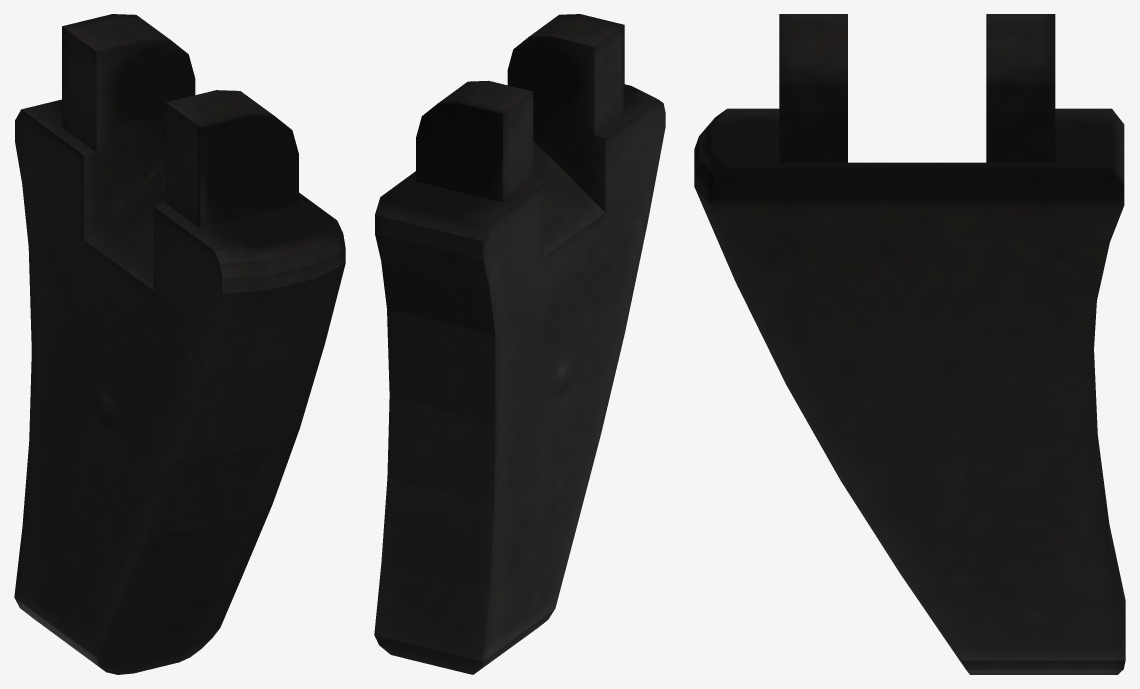
The picture shows the model from 3 angles, left to right: view 1: azimuth 30°, elevation 25°; view 2: azimuth 150°, elevation 25°; view 3: azimuth 270°, elevation 25°; orthographic projection. The views are drawn at different scales.
Visible parts, largest first — view 1: TW_5cadfbf7ae92152ac412eeef_PZ_Import; view 2: TW_5cadfbf7ae92152ac412eeef_PZ_Import; view 3: TW_5cadfbf7ae92152ac412eeef_PZ_Import.
Part boxes in pixels (box(x1,y1,x2,y2)): TW_5cadfbf7ae92152ac412eeef_PZ_Import: box(14, 14, 345, 674); TW_5cadfbf7ae92152ac412eeef_PZ_Import: box(374, 14, 665, 674); TW_5cadfbf7ae92152ac412eeef_PZ_Import: box(694, 14, 1125, 674).
Size of the model in its own units: 0.00482 by 0.0146 by 0.0231.
Materials: 1 (1 with a texture image).
